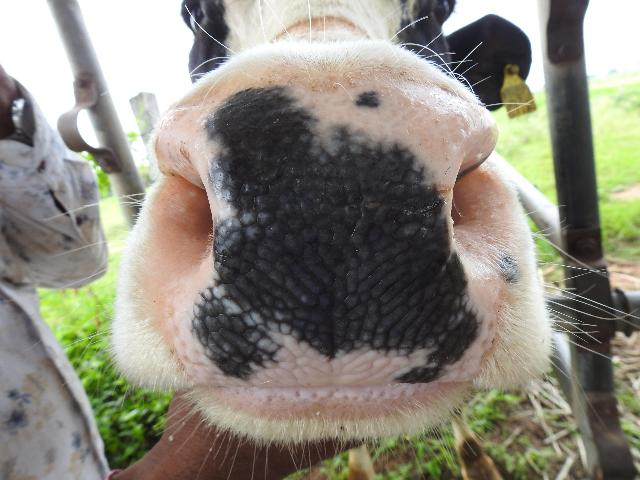Muzzle: (205, 107, 470, 378)
